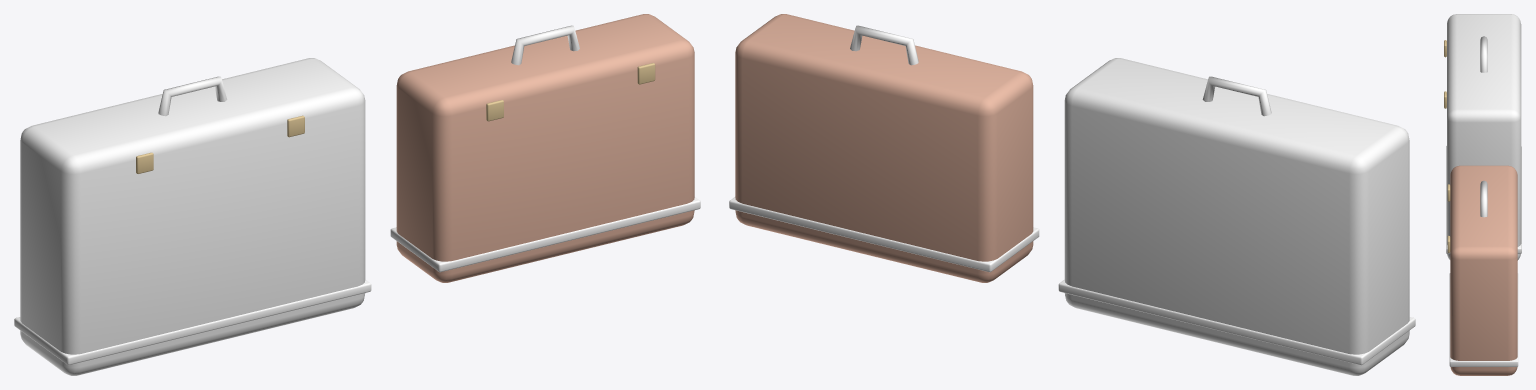
File: vintage_suitcase.glb
3 views of the same model, side by side, from view 1: azimuth 30°, elevation 25°; view 2: azimuth 150°, elevation 25°; view 3: azimuth 270°, elevation 25° (orthographic). The views are drawn at different scales.
Visible parts, largest first — view 1: vintage_suitcase_01_body, vintage_suitcase_02_body, vintage_suitcase_01_band, vintage_suitcase_02_band, vintage_suitcase_02_handle, vintage_suitcase_01_handle; view 2: vintage_suitcase_01_body, vintage_suitcase_02_body, vintage_suitcase_01_band, vintage_suitcase_02_band, vintage_suitcase_02_handle, vintage_suitcase_01_handle; view 3: vintage_suitcase_02_body, vintage_suitcase_01_body, vintage_suitcase_02_band, vintage_suitcase_01_handle, vintage_suitcase_02_handle, vintage_suitcase_01_band.
Boxes of the visible parts, x1,y1,x2,y2 form: vintage_suitcase_01_body: (20,58,365,375); vintage_suitcase_02_body: (396,14,694,282); vintage_suitcase_01_band: (14,280,371,365); vintage_suitcase_02_band: (390,197,700,272); vintage_suitcase_02_handle: (511,25,579,65); vintage_suitcase_01_handle: (158,76,227,116); vintage_suitcase_01_body: (1064,58,1409,375); vintage_suitcase_02_body: (735,14,1033,282); vintage_suitcase_01_band: (1058,280,1415,365); vintage_suitcase_02_band: (729,197,1039,272); vintage_suitcase_02_handle: (850,25,918,65); vintage_suitcase_01_handle: (1202,76,1271,116); vintage_suitcase_02_body: (1450,165,1517,375); vintage_suitcase_01_body: (1447,14,1521,260); vintage_suitcase_02_band: (1449,273,1518,366); vintage_suitcase_01_handle: (1480,36,1487,72); vintage_suitcase_02_handle: (1480,180,1487,217); vintage_suitcase_01_band: (1446,146,1521,253).
Bounding box in the file's own units: 1.51 × 0.5536 × 0.23.
